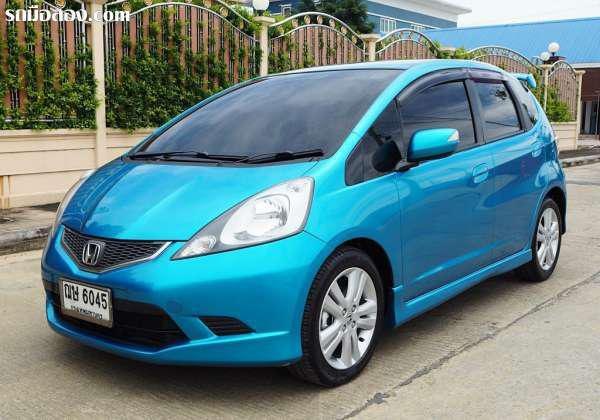Hatchback: (23, 46, 575, 384)
